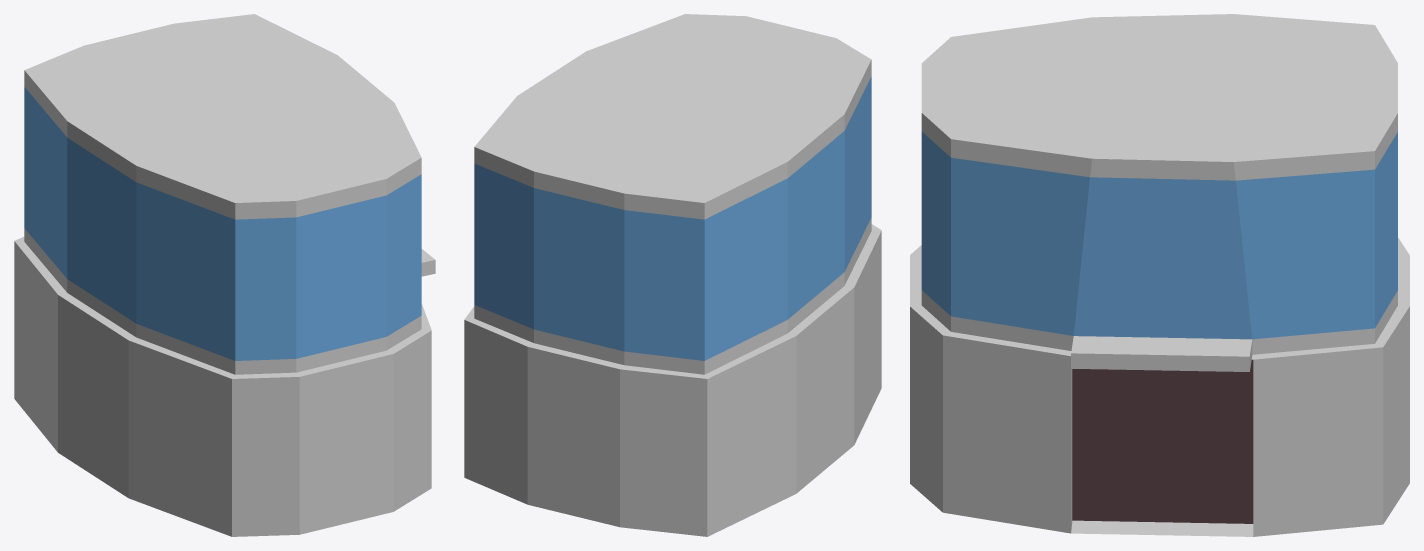
The model's file is building_1x1_10_g.glb.
3 renders of one model, left to right at view 1: azimuth 30°, elevation 25°; view 2: azimuth 150°, elevation 25°; view 3: azimuth 270°, elevation 25°, orthographic. The views are drawn at different scales.
Parts seen in each view (by area): view 1: Cube; view 2: Cube; view 3: Cube.
Part boxes in pixels (x1,y1,x2,y2): Cube: (14, 14, 435, 536); Cube: (464, 14, 881, 536); Cube: (910, 14, 1409, 536).
Bounding box in the file's own units: 1.58 × 1.6 × 1.96.
